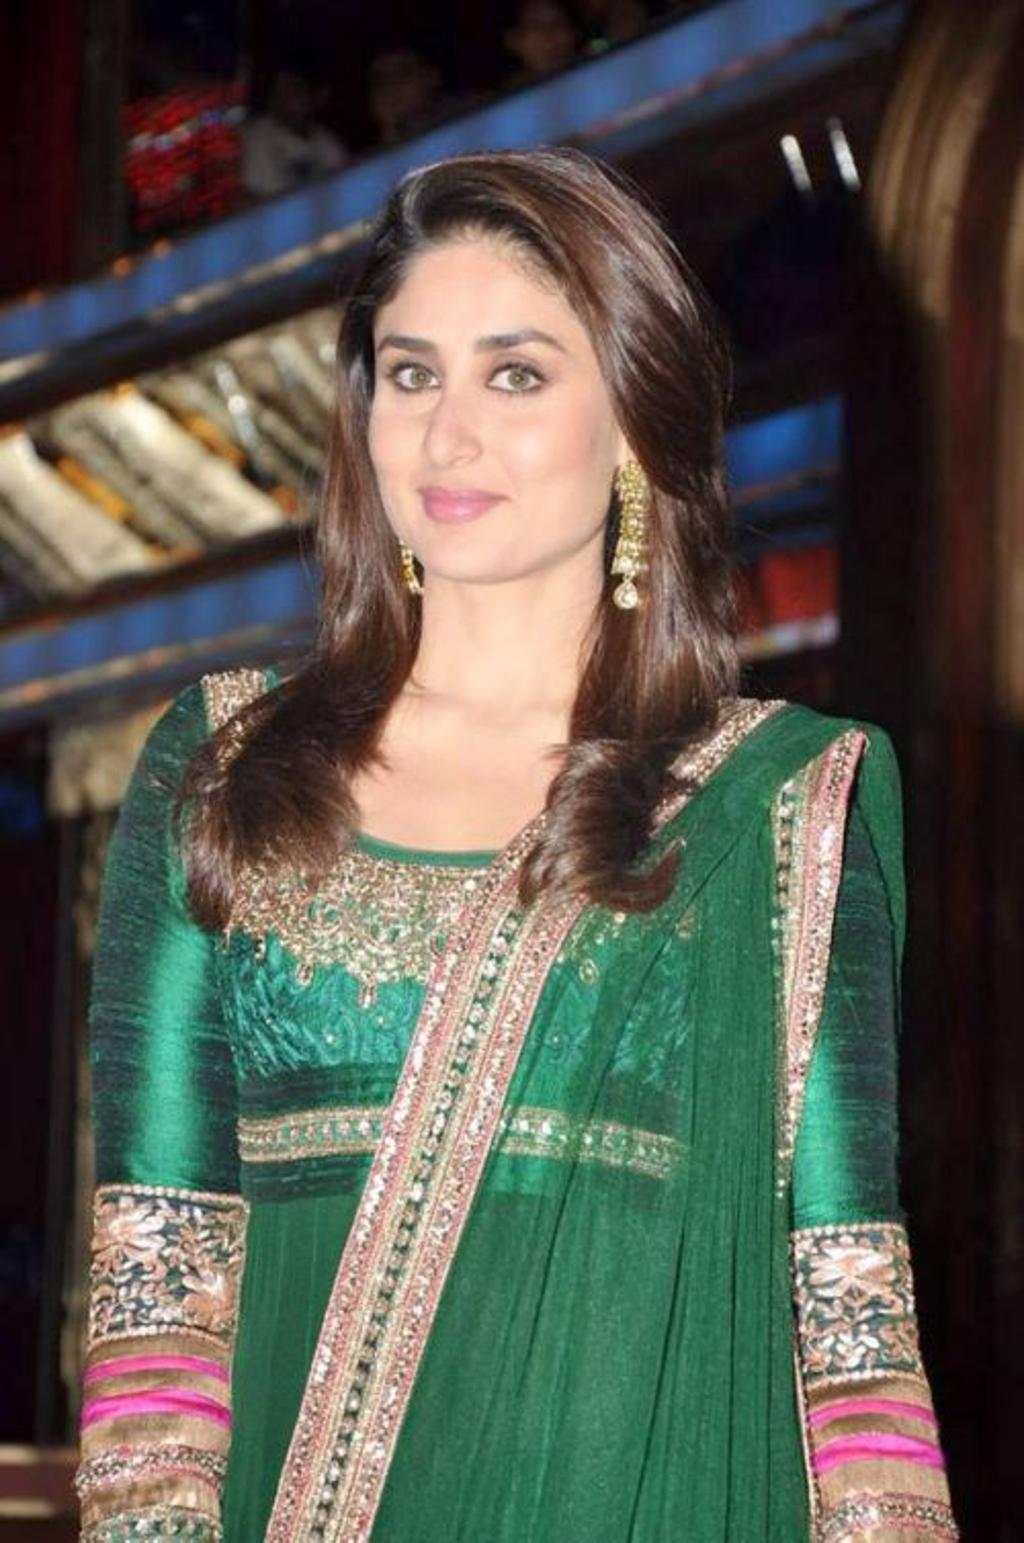face: (370, 232, 611, 575)
